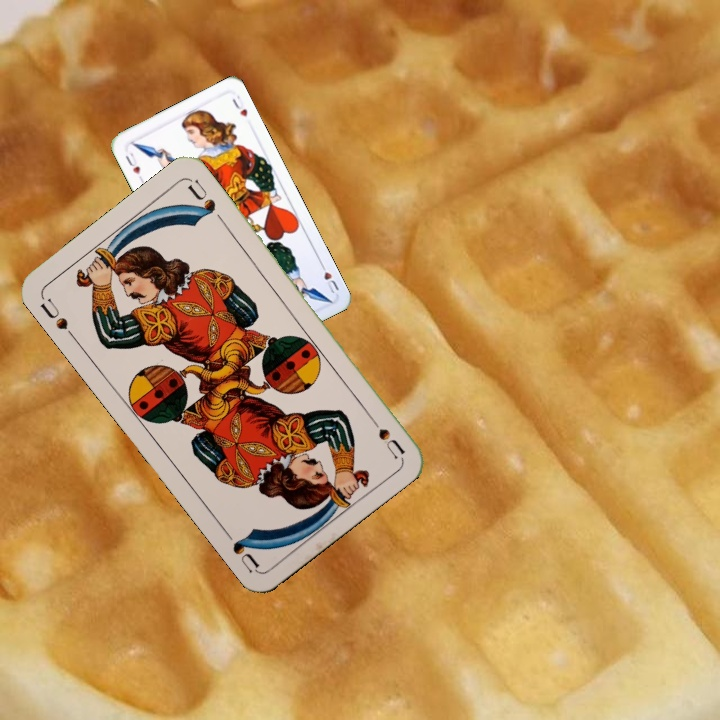HU: (315, 258, 341, 297), (121, 148, 143, 176)
SU: (362, 408, 407, 461), (36, 293, 79, 343)
